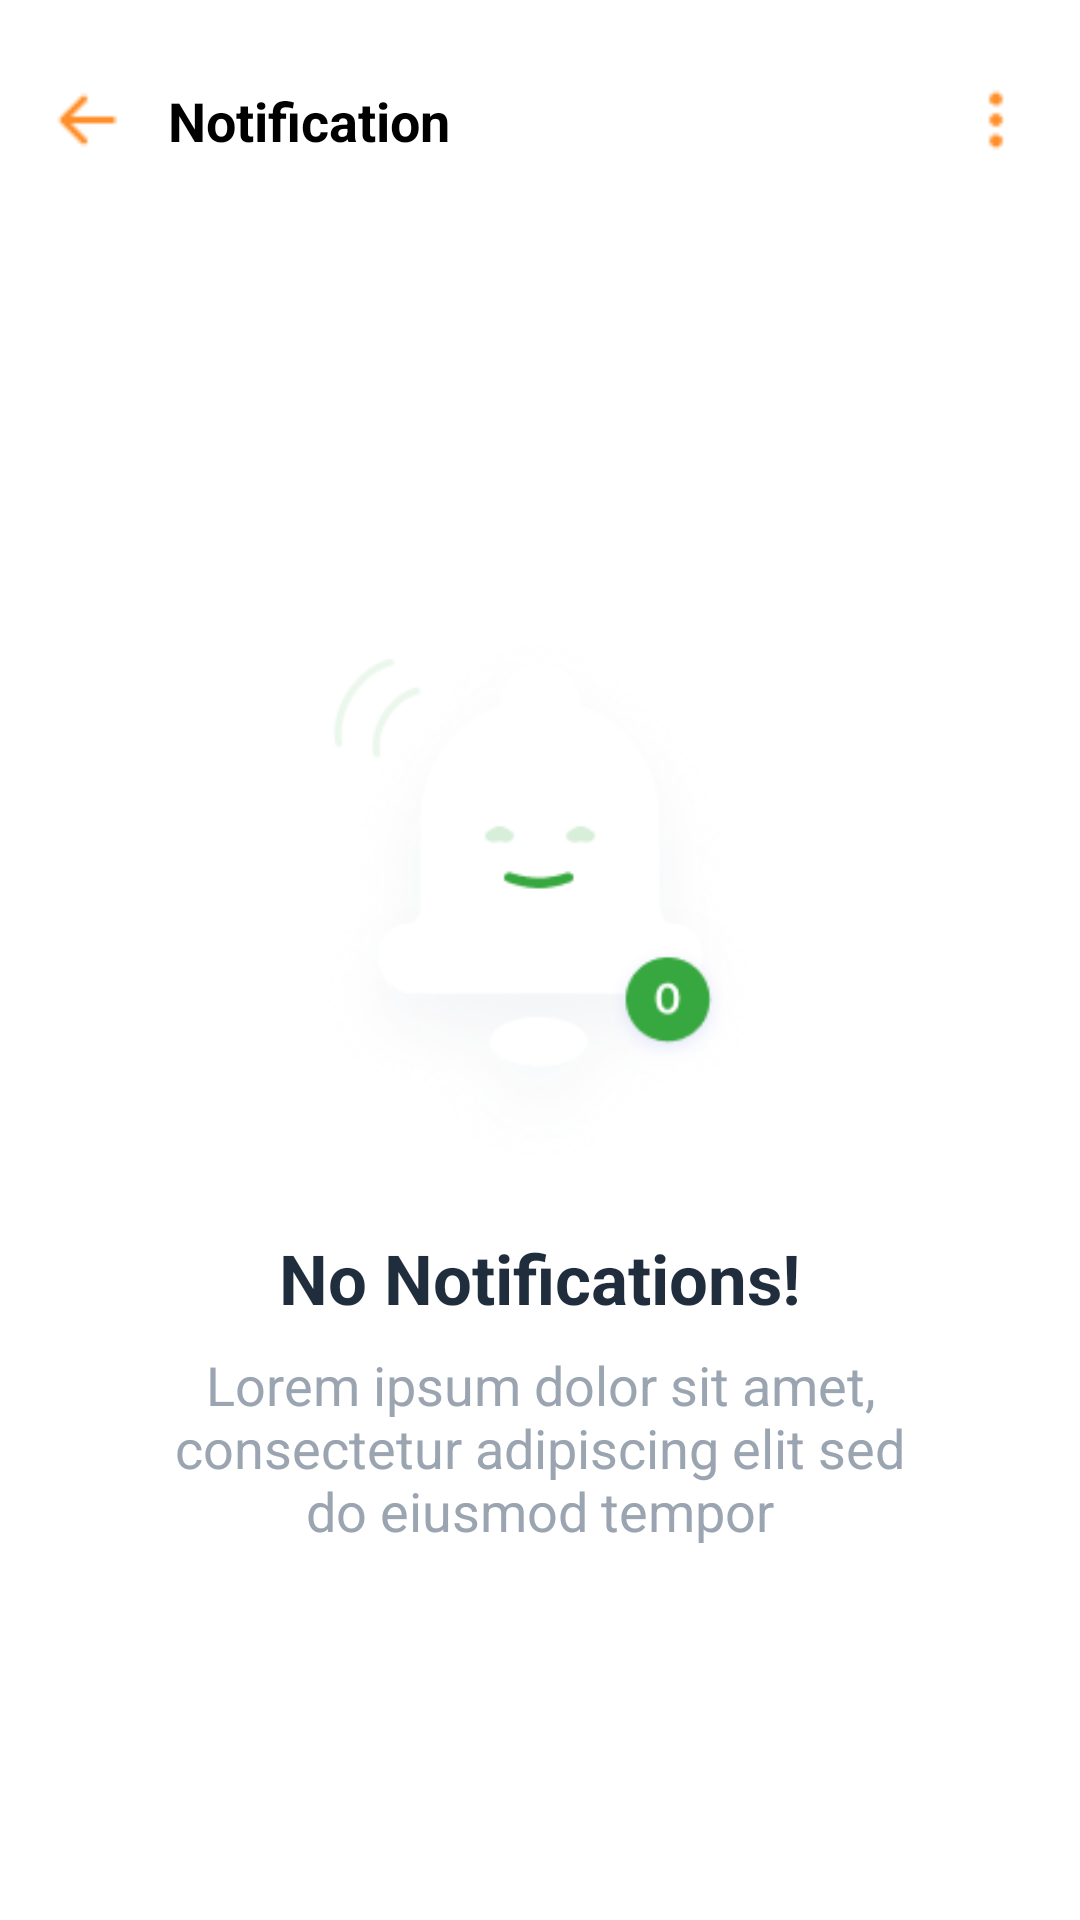

Icons on this 1080 x 1920 Android screen, each with its box as detection(x1, y1, x2, y2):
back: detection(58, 94, 118, 146)
more: detection(988, 90, 1004, 150)
